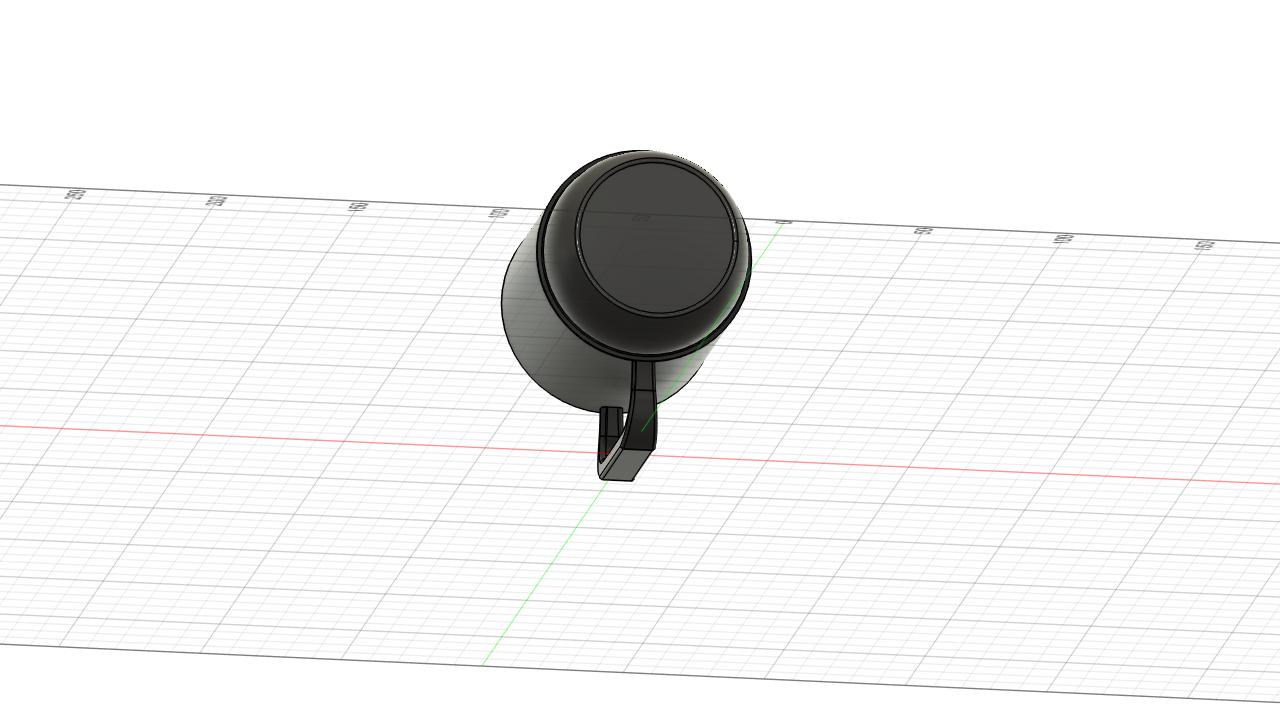mug-real100-3d100: (503, 151, 750, 480)
